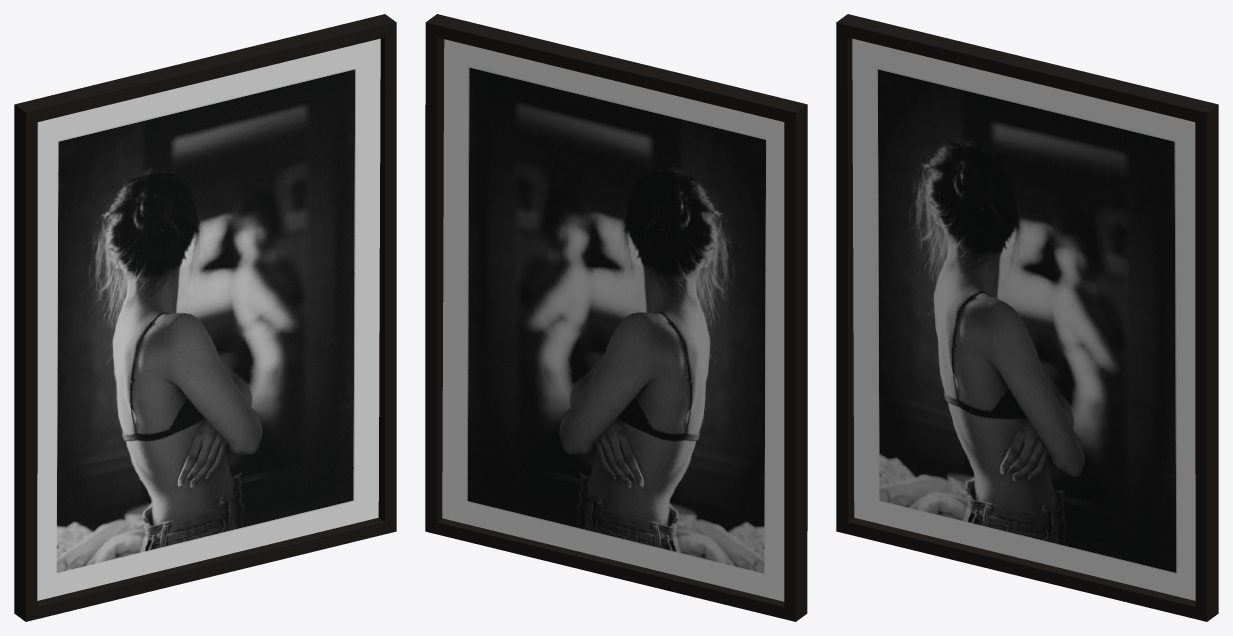
The model's file is P655092_kvinna_i_svartvitt_30x40_WEBB.glb.
3 renders of one model, left to right at view 1: azimuth 30°, elevation 25°; view 2: azimuth 150°, elevation 25°; view 3: azimuth 330°, elevation 25°, orthographic.
Visible parts, largest first — view 1: P655208_vintervass_30x40_WEBB, Frame2; view 2: P655208_vintervass_30x40_WEBB, Frame2; view 3: P655208_vintervass_30x40_WEBB, Frame2.
Part boxes in pixels (bbox=[...]): P655208_vintervass_30x40_WEBB: bbox=[37, 38, 380, 600]; Frame2: bbox=[14, 14, 396, 621]; P655208_vintervass_30x40_WEBB: bbox=[442, 39, 784, 601]; Frame2: bbox=[425, 14, 807, 621]; P655208_vintervass_30x40_WEBB: bbox=[852, 38, 1195, 600]; Frame2: bbox=[836, 14, 1218, 621].
Size of the model in its own units: 0.2576 by 0.3381 by 0.0143.
Materials: 2 (2 with a texture image).
